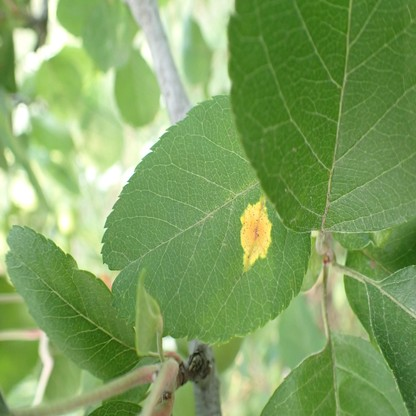rust: (239, 194, 272, 276)
